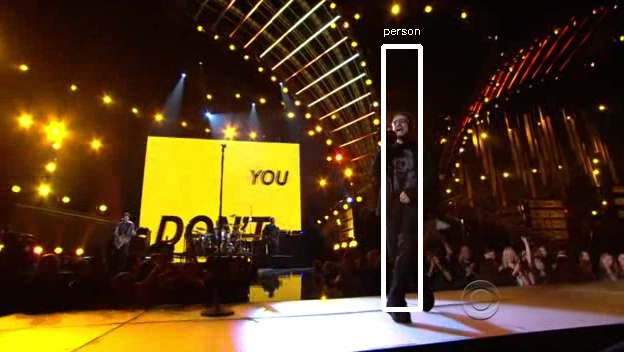person: (372, 115, 438, 223), (369, 115, 435, 223), (375, 115, 441, 223), (372, 112, 438, 220), (372, 118, 438, 226)
target_negative: (124, 163, 468, 318), (338, 44, 504, 232), (78, 6, 403, 92), (360, 182, 559, 280), (552, 5, 615, 243), (526, 194, 556, 326)
